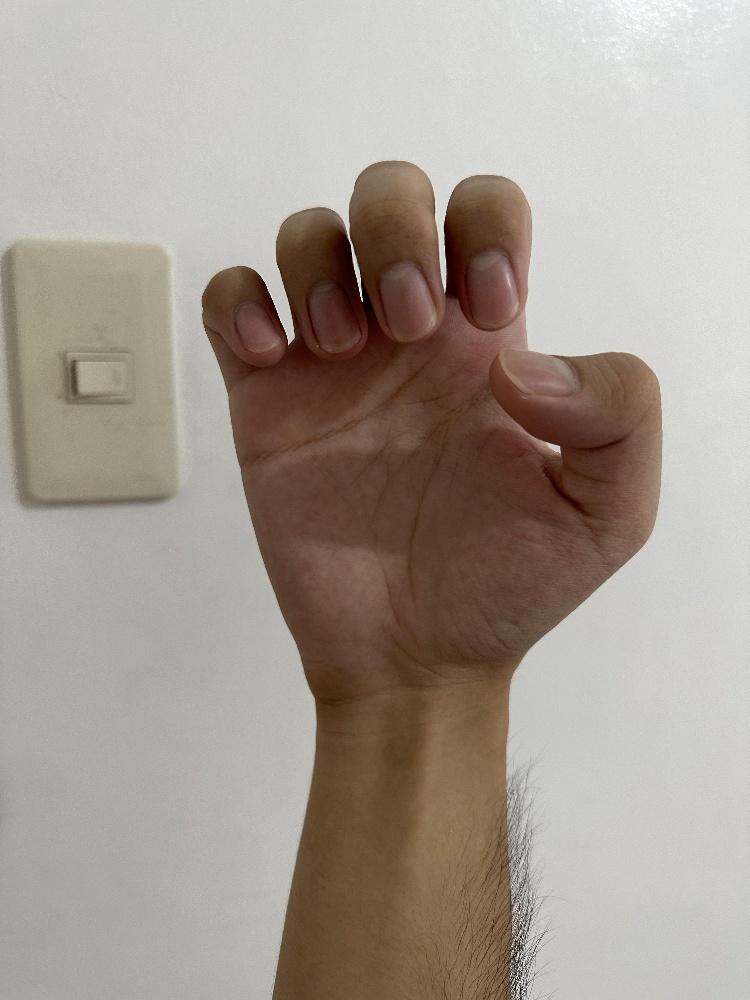e: (197, 156, 667, 709)
